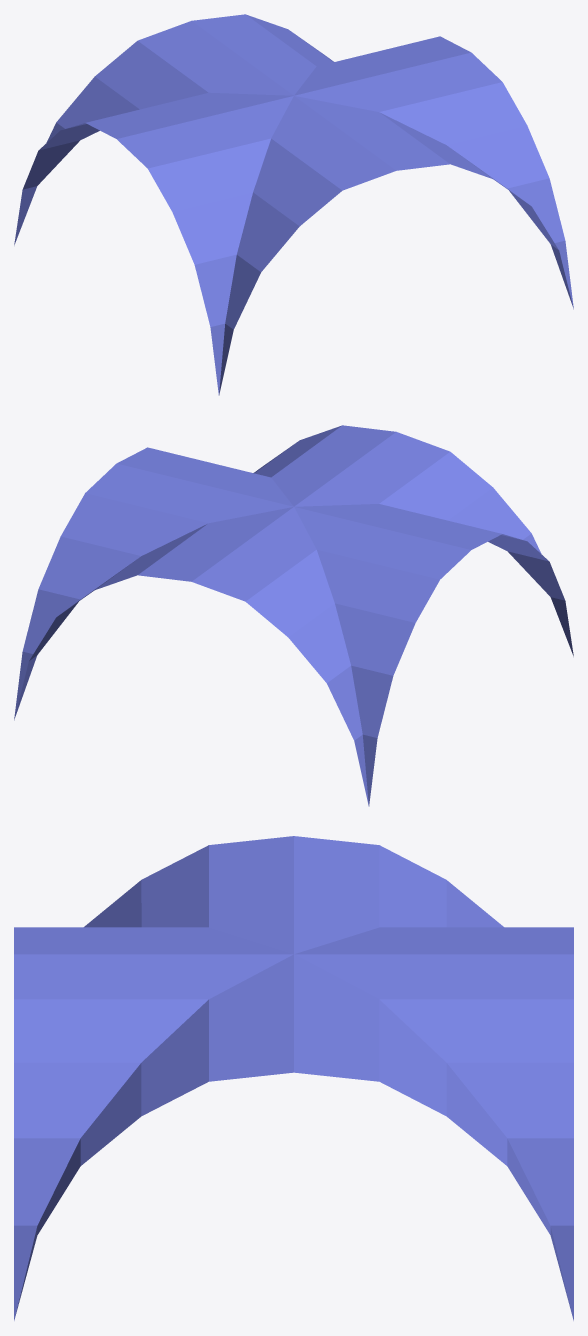
File: Ceiling1x1_Split.fbx
3 renders of one model, top to bottom at view 1: azimuth 30°, elevation 25°; view 2: azimuth 150°, elevation 25°; view 3: azimuth 270°, elevation 25°, orthographic. The views are drawn at different scales.
Parts seen in each view (by area): view 1: Plane.032; view 2: Plane.032; view 3: Plane.032.
Part boxes in pixels (x1=…): Plane.032: x1=14, y1=14, x2=573, y2=395; Plane.032: x1=14, y1=425, x2=573, y2=806; Plane.032: x1=14, y1=836, x2=573, y2=1320.
Size of the model in its own units: 200 by 98.25 by 200.
